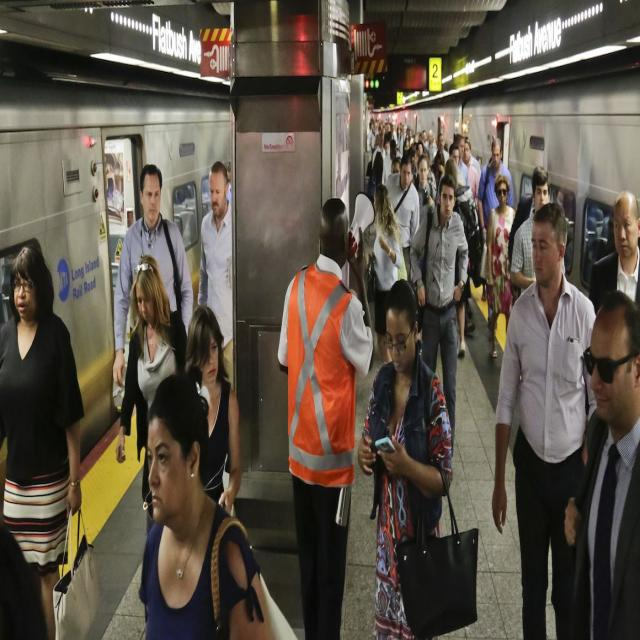body: (491, 200, 599, 638), (276, 189, 377, 639), (137, 371, 300, 640), (0, 240, 104, 639), (356, 277, 453, 640), (565, 288, 640, 640), (115, 255, 189, 534), (112, 165, 194, 388), (409, 172, 470, 459), (183, 302, 241, 516), (196, 160, 236, 392), (509, 164, 567, 298), (588, 189, 640, 316), (0, 517, 53, 639), (484, 171, 518, 361), (370, 182, 404, 369), (362, 112, 450, 181), (444, 158, 470, 359), (384, 152, 421, 284), (476, 136, 515, 242), (504, 167, 535, 275), (411, 153, 437, 228), (462, 128, 487, 206), (101, 153, 124, 221), (0, 245, 17, 330), (440, 142, 467, 187), (453, 133, 469, 187), (226, 149, 233, 201)
